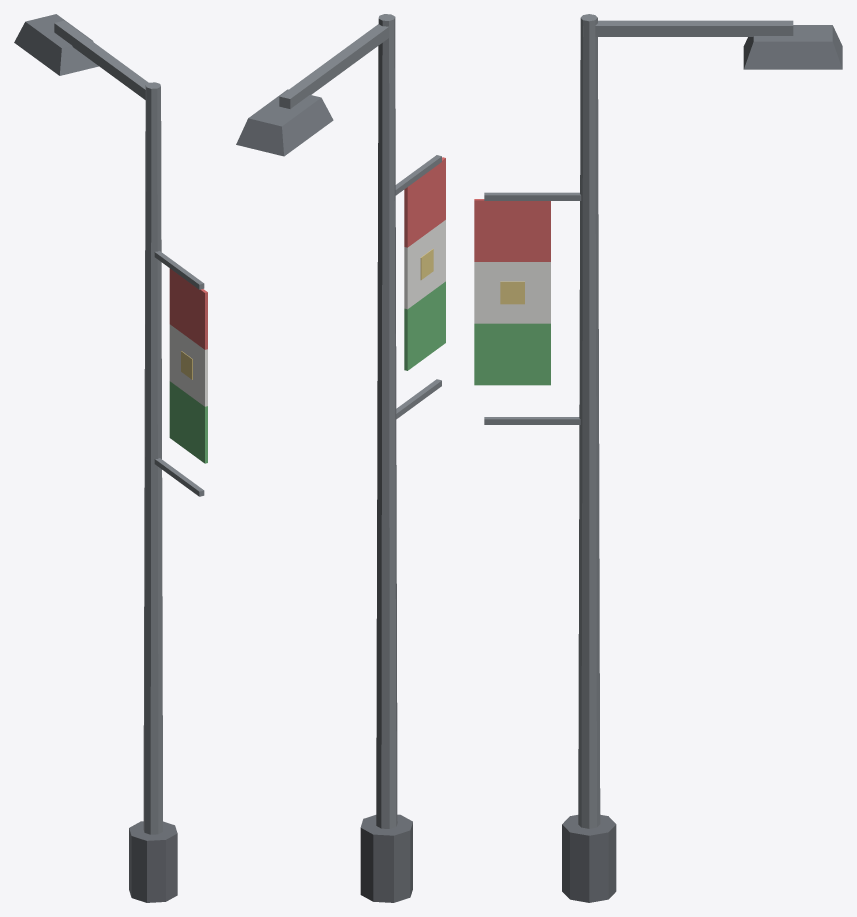
File: banner_pole.glb
3 renders of one model, left to right at view 1: azimuth 30°, elevation 25°; view 2: azimuth 150°, elevation 25°; view 3: azimuth 270°, elevation 25°, orthographic. The views are drawn at different scales.
Parts seen in each view (by area): view 1: BannerPole; view 2: BannerPole; view 3: BannerPole.
Boxes of the visible parts, x1,y1,x2,y2 form: BannerPole: (14,14,207,902); BannerPole: (236,14,445,902); BannerPole: (474,14,842,902).
Bounding box in the file's own units: 0.45 × 7.8 × 2.98.
